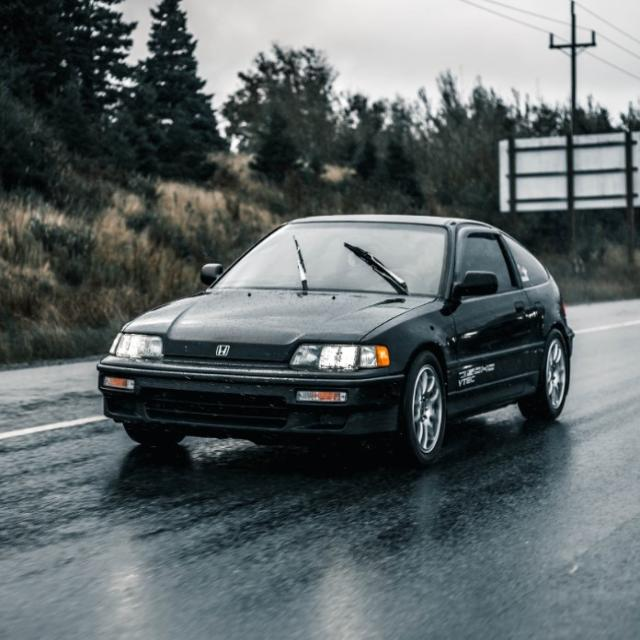car: (96, 210, 574, 472)
